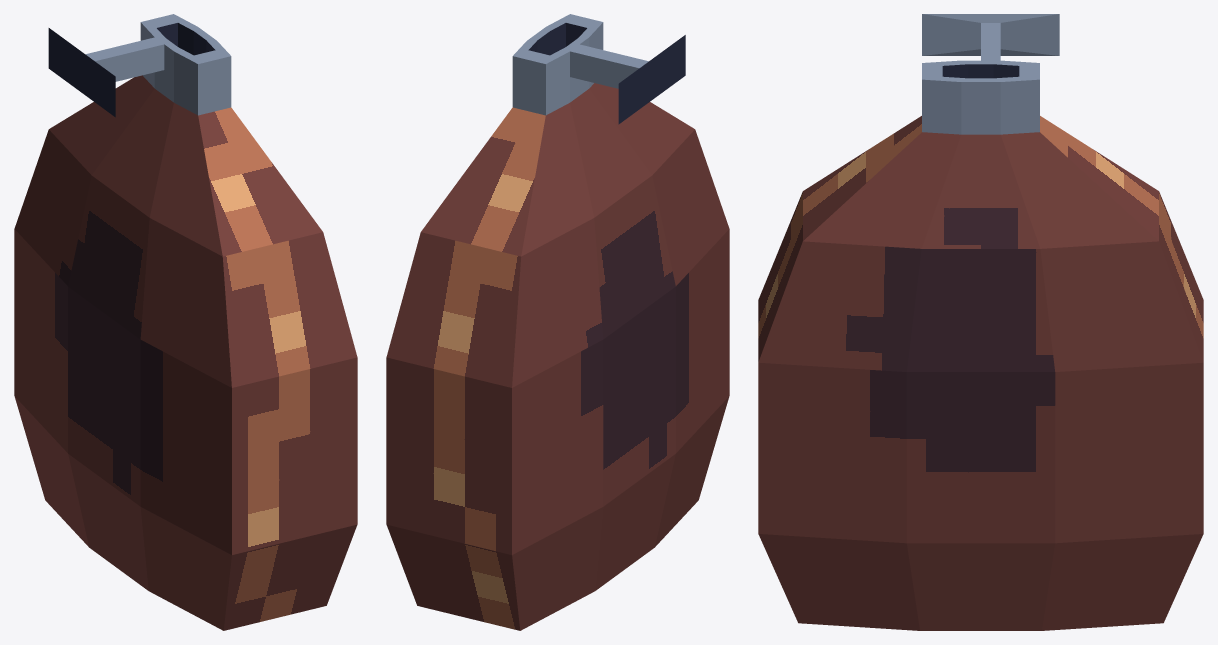
The model's file is Flask.gltf.
3 views of the same model, side by side, from view 1: azimuth 30°, elevation 25°; view 2: azimuth 150°, elevation 25°; view 3: azimuth 270°, elevation 25° (orthographic). The views are drawn at different scales.
Visible parts, largest first — view 1: FLASK; view 2: FLASK; view 3: FLASK.
Part boxes in pixels (left/top/right/bottom): FLASK: left=14, top=14, right=357, bottom=630; FLASK: left=386, top=14, right=729, bottom=630; FLASK: left=758, top=14, right=1203, bottom=630.
Size of the model in its own units: 0.3623 by 1 by 0.7557.
Materials: 1 (1 with a texture image).
